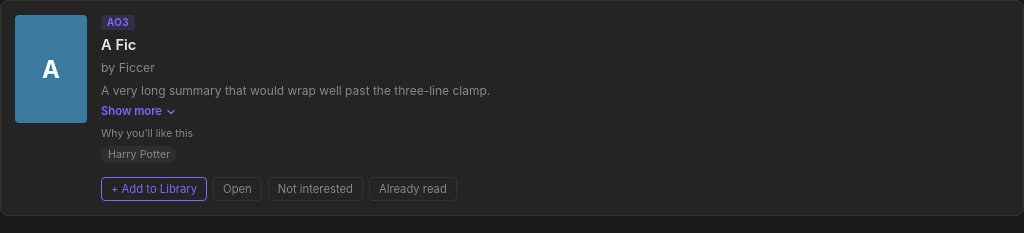
RecommendationCard description › expands in place and collapses back on toggle click
Click the button "Show more" at [138, 111], box [101,104,176,118]
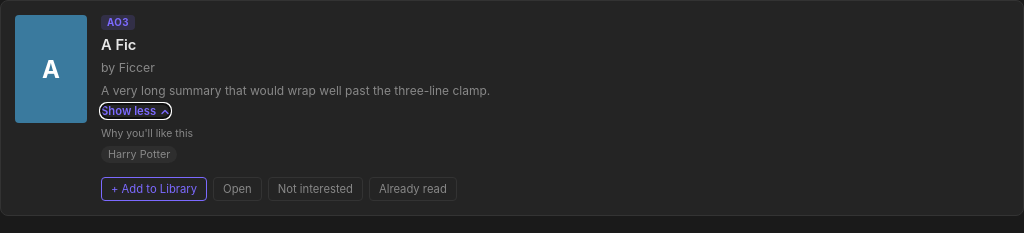
Check: the button "Show less" is shown
Click the button "Show less" at [136, 111], box [101,104,170,118]
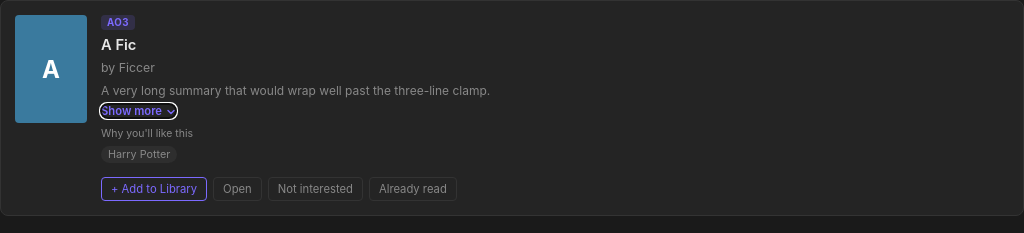
Check: the button "Show more" is shown, box [101,104,176,118]
